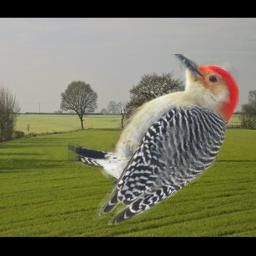Woodpecker: (68, 54, 240, 225)
